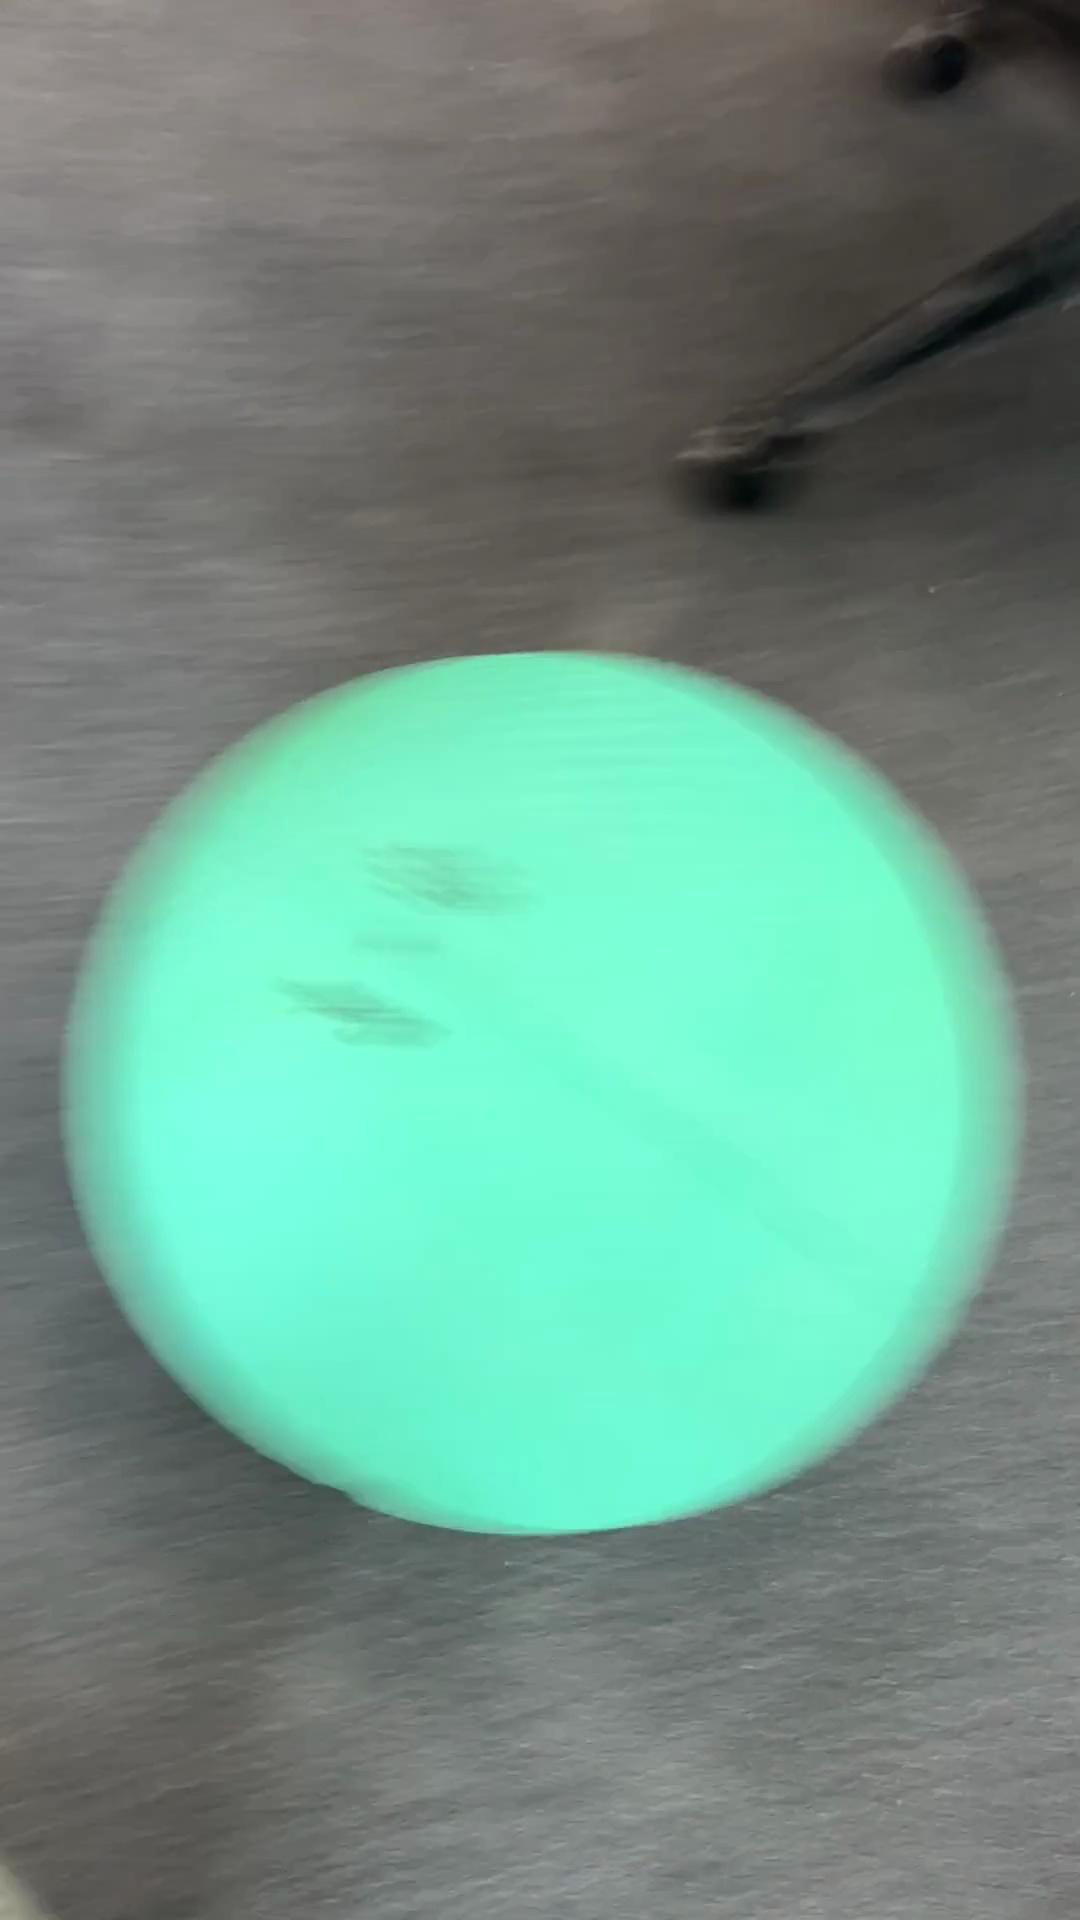ALGAE: (57, 645, 1026, 1539)
